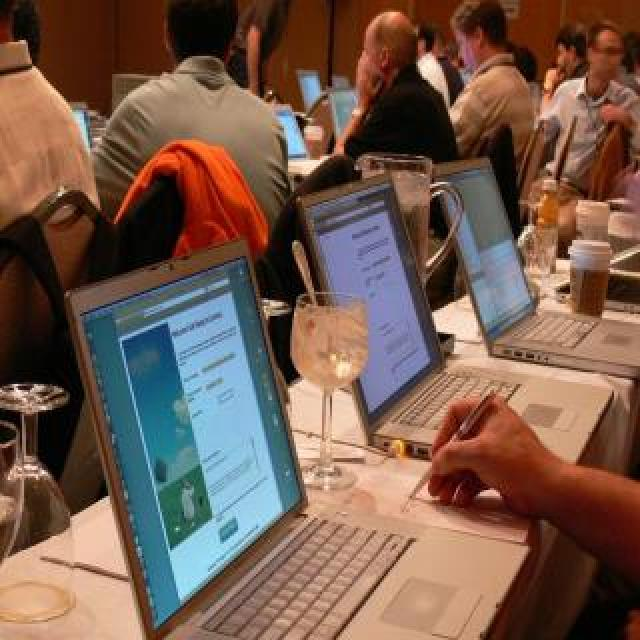laptop_computer: (44, 205, 570, 640), (272, 166, 602, 479), (402, 126, 640, 426), (257, 87, 329, 189), (67, 77, 114, 169), (325, 64, 365, 145), (290, 66, 330, 116)
